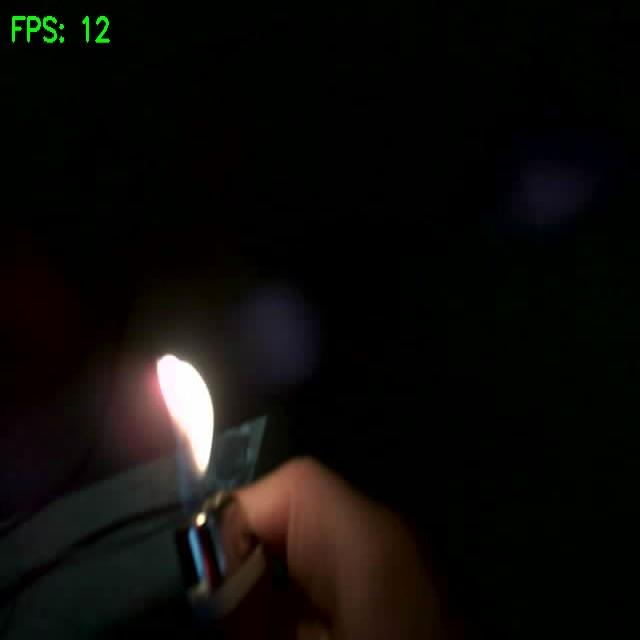fire: (157, 355, 213, 474)
